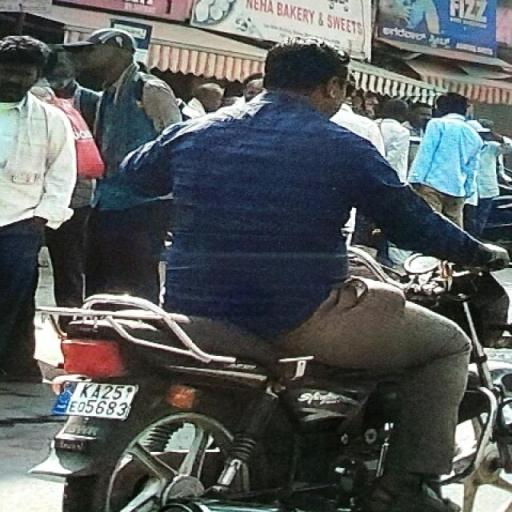bike: (27, 29, 508, 512)
numberplate: (62, 373, 140, 427)
withouthelmet: (260, 32, 350, 106)
